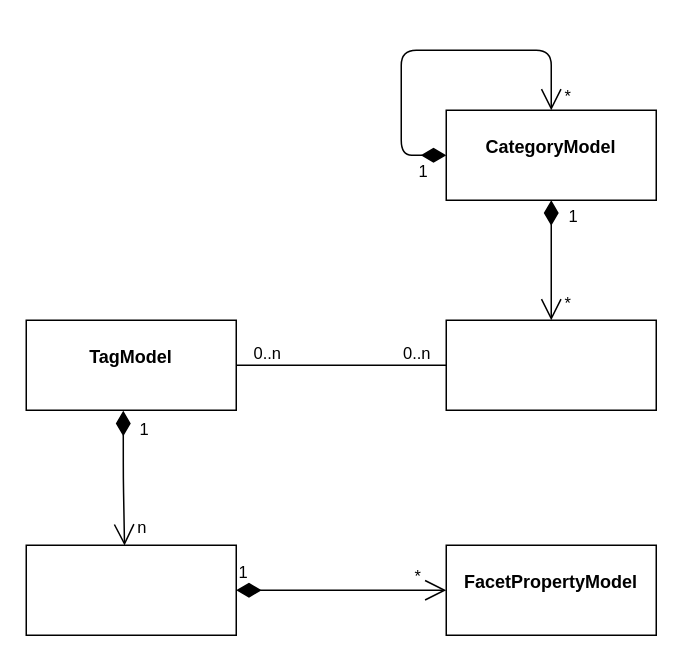
This 683x662 diagram has some shape labels left out. Here are the shapes that lost their labels. From the top down, the centre of each, then its label:
point 550,364: EntityModel
point 130,589: FacetModel
